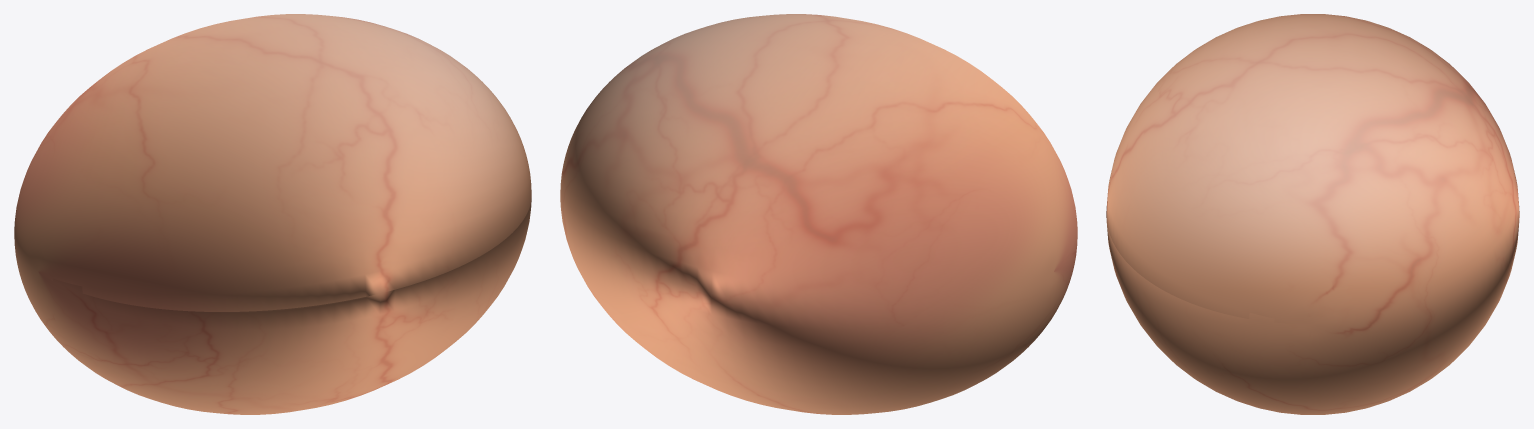
3 views of the same model, side by side, from view 1: azimuth 30°, elevation 25°; view 2: azimuth 150°, elevation 25°; view 3: azimuth 270°, elevation 25° (orthographic). The views are drawn at different scales.
Parts seen in each view (by area): view 1: default; view 2: default; view 3: default.
Boxes of the visible parts, <box> form: default: <box>14,14,531,414</box>; default: <box>560,14,1077,414</box>; default: <box>1106,14,1519,414</box>.
Size of the model in its own units: 4.17 by 2.97 by 3.32.
7 materials, 7 textured.
